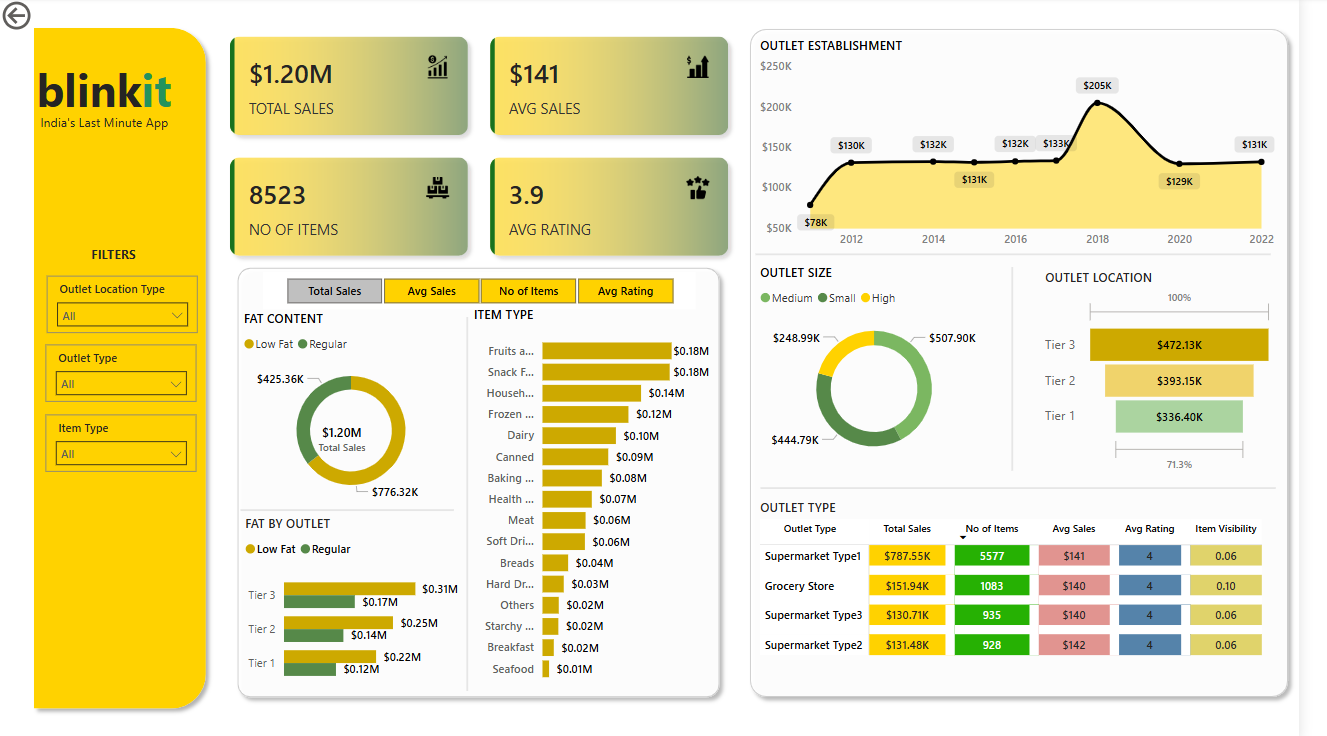

The page's visual inventory and layout, read from the dashboard file:
{"tool":"powerbi","page":{"name":"Page 1","canvas":[1400,800],"ordinal":0},"visuals":[{"type":"shape","box":[29.6,24.2,203.1,750.5],"z":0},{"type":"textbox","box":[36,61.5,165.1,76.5],"z":1000},{"type":"textbox","box":[40.5,121.6,162.1,31.5],"z":2000},{"type":"cardVisual","fields":{"Data":["KPI.Total Sales","KPI.Avg Sales","KPI.No of Items","KPI.Avg Rating"]},"box":[232.7,25.6,570.3,270.3],"z":3000},{"type":"shape","box":[248.8,282.4,536.7,480.2],"z":4000},{"type":"slicer","fields":{"Values":["Matrix.Matrix"]},"box":[285.1,295.9,465.4,40.3],"z":5000},{"type":"donutChart","title":"FAT CONTENT","fields":{"Y":["KPI.Total Sales"],"Category":["BlinkIT Grocery Data.Item Fat Content"]},"box":[259.6,336.2,240.8,215.2],"z":6000},{"type":"cardVisual","fields":{"Data":["KPI.Total Sales"]},"box":[316.1,442.5,108.9,51.1],"z":7000},{"type":"clusteredBarChart","title":"FAT BY OUTLET","fields":{"Y":["KPI.Total Sales"],"Category":["BlinkIT Grocery Data.Outlet Location Type"],"Series":["BlinkIT Grocery Data.Item Fat Content"]},"box":[260.9,556.8,239.4,195],"z":8000},{"type":"shape","box":[260.9,547.4,230,9.4],"z":9000},{"type":"shape","box":[490.9,344.3,28.2,402.2],"z":10000},{"type":"barChart","title":"ITEM TYPE","fields":{"Y":["KPI.Total Sales"],"Category":["BlinkIT Grocery Data.Item Type"]},"box":[507.1,332.2,263.6,414.3],"z":11000},{"type":"shape","box":[800.3,25.6,597.2,737.1],"z":12000},{"type":"lineChart","title":"OUTLET ESTABLISHMENT","fields":{"Category":["BlinkIT Grocery Data.Outlet Establishment Year"],"Y":["KPI.Total Sales"]},"box":[815.1,43,563.6,235.4],"z":13000},{"type":"shape","box":[815.1,271.7,554.1,10.8],"z":14000},{"type":"donutChart","title":"OUTLET SIZE","fields":{"Y":["KPI.Total Sales"],"Category":["BlinkIT Grocery Data.Outlet Size"]},"box":[815.1,286.5,255.5,224.6],"z":15000},{"type":"shape","box":[1077.3,290.5,28.2,219.2],"z":16000},{"type":"funnel","title":"OUTLET LOCATION","fields":{"Y":["KPI.Total Sales"],"Category":["BlinkIT Grocery Data.Outlet Location Type"]},"box":[1121.7,291.9,255.5,224.6],"z":16001},{"type":"shape","box":[820.4,523.2,554.1,10.8],"z":16002},{"type":"pivotTable","title":"OUTLET TYPE","fields":{"Rows":["BlinkIT Grocery Data.Outlet Type"],"Values":["KPI.Total Sales","KPI.No of Items","KPI.Avg Sales","KPI.Avg Rating","Avg(BlinkIT Grocery Data.Item Visibility)"]},"box":[815.1,539.3,563.6,207.1],"z":16003},{"type":"actionButton","box":[0,0,100,40],"z":16004},{"type":"slicer","fields":{"Values":["BlinkIT Grocery Data.Outlet Location Type"]},"box":[52.5,299.9,162.7,61.9],"z":16005},{"type":"slicer","fields":{"Values":["BlinkIT Grocery Data.Outlet Type"]},"box":[51.1,373.9,162.7,61.9],"z":16006},{"type":"slicer","fields":{"Values":["BlinkIT Grocery Data.Item Type"]},"box":[51.1,449.2,162.7,61.9],"z":16007},{"type":"textbox","box":[78,262.3,92.8,33.6],"z":16008}]}

Visuals, with their boxes on the page's 1400x800 design canvas (x1, y1, x2, y2). These are canvas units, not pixel positions in the 1327x736 screenshot, which may show the page scaled, cropped or inside an application window:
shape: <region>30, 24, 233, 775</region>
textbox: <region>36, 62, 201, 138</region>
textbox: <region>40, 122, 203, 153</region>
cardVisual - KPI.Total Sales x KPI.Avg Sales: <region>233, 26, 803, 296</region>
shape: <region>249, 282, 786, 763</region>
slicer - Matrix.Matrix: <region>285, 296, 750, 336</region>
"FAT CONTENT" donutChart: <region>260, 336, 500, 551</region>
cardVisual - KPI.Total Sales: <region>316, 442, 425, 494</region>
"FAT BY OUTLET" clusteredBarChart: <region>261, 557, 500, 752</region>
shape: <region>261, 547, 491, 557</region>
shape: <region>491, 344, 519, 746</region>
"ITEM TYPE" barChart: <region>507, 332, 771, 746</region>
shape: <region>800, 26, 1398, 763</region>
"OUTLET ESTABLISHMENT" lineChart: <region>815, 43, 1379, 278</region>
shape: <region>815, 272, 1369, 282</region>
"OUTLET SIZE" donutChart: <region>815, 286, 1071, 511</region>
shape: <region>1077, 290, 1106, 510</region>
"OUTLET LOCATION" funnel: <region>1122, 292, 1377, 516</region>
shape: <region>820, 523, 1374, 534</region>
"OUTLET TYPE" pivotTable: <region>815, 539, 1379, 746</region>
actionButton: <region>0, 0, 100, 40</region>
slicer - BlinkIT Grocery Data.Outlet Location Type: <region>52, 300, 215, 362</region>
slicer - BlinkIT Grocery Data.Outlet Type: <region>51, 374, 214, 436</region>
slicer - BlinkIT Grocery Data.Item Type: <region>51, 449, 214, 511</region>
textbox: <region>78, 262, 171, 296</region>
